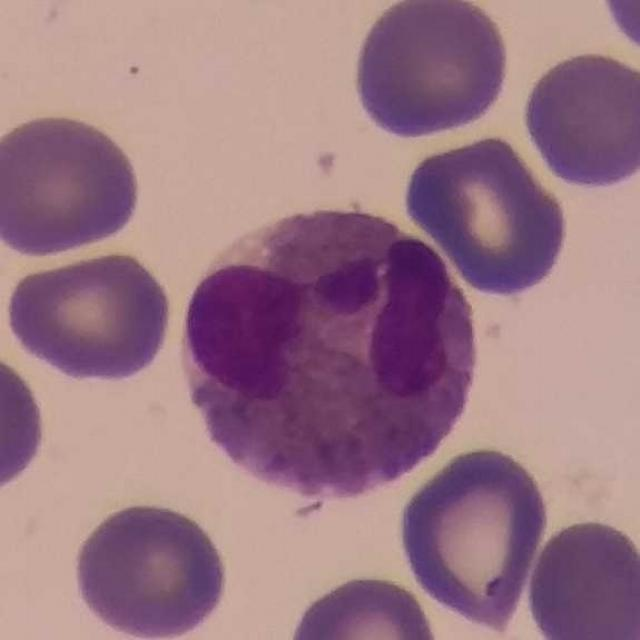Eosinophil: (174, 186, 494, 514)
RBC: (393, 441, 552, 634), (398, 130, 574, 300), (67, 494, 235, 640), (1, 248, 177, 386), (347, 0, 514, 141), (0, 108, 146, 259), (517, 45, 640, 192), (520, 514, 640, 640), (281, 569, 444, 640), (0, 342, 52, 503), (594, 0, 640, 66)
